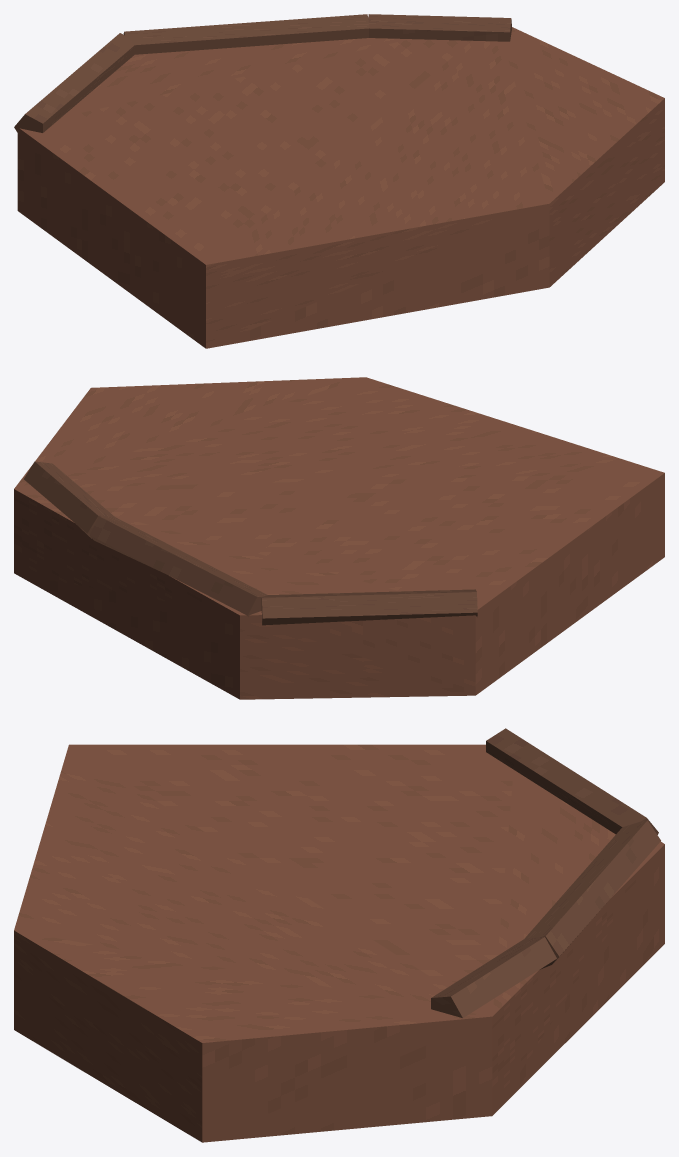
File: liver_cooked.glb
3 renders of one model, top to bottom at view 1: azimuth 30°, elevation 25°; view 2: azimuth 150°, elevation 25°; view 3: azimuth 270°, elevation 25°, orthographic. The views are drawn at different scales.
Parts seen in each view (by area): view 1: block_fillet or lobe, block_browned edge 1, block_browned edge 0, block_browned edge 2; view 2: block_fillet or lobe, block_browned edge 0, block_browned edge 1, block_browned edge 2; view 3: block_fillet or lobe, block_browned edge 1, block_browned edge 0, block_browned edge 2.
Boxes of the visible parts, box(x1,y1,x2,y2) form: block_fillet or lobe: box(17, 27, 664, 348); block_browned edge 1: box(123, 14, 368, 54); block_browned edge 0: box(14, 33, 134, 134); block_browned edge 2: box(368, 14, 511, 41); block_fillet or lobe: box(14, 377, 664, 699); block_browned edge 0: box(261, 589, 477, 625); block_browned edge 1: box(90, 516, 267, 616); block_browned edge 2: box(24, 461, 114, 538); block_fillet or lobe: box(14, 744, 664, 1142); block_browned edge 1: box(524, 820, 660, 963); block_browned edge 0: box(486, 728, 658, 834); block_browned edge 2: box(431, 937, 556, 1017).
Size of the model in its own units: 0.0667 by 0.0122 by 0.0612.
Materials: 1 (1 with a texture image).
